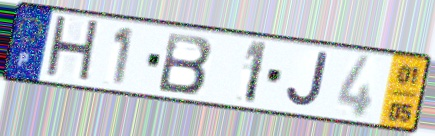1: (243, 39, 270, 108), (111, 25, 135, 87)
4: (334, 52, 378, 122)
B: (156, 30, 215, 96)
H: (42, 13, 102, 87)
J: (283, 50, 330, 111)
